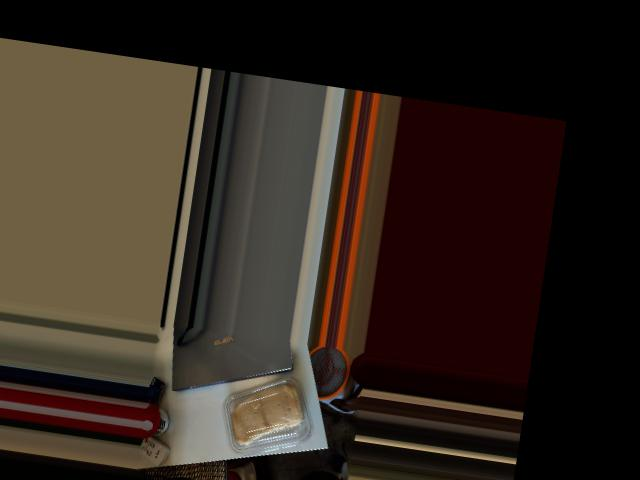cheese: (213, 366, 325, 464)
